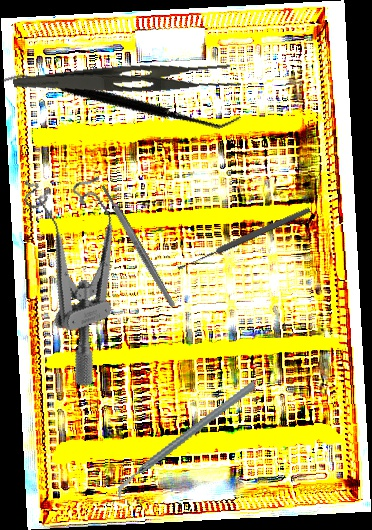Chopper: (98, 379, 275, 501)
Dressing Forceps: (12, 53, 242, 113)
Scalpel Handle: (99, 182, 177, 310)
Spatula Surgical: (0, 7, 242, 191)
Speculum: (3, 153, 166, 392)
Surgical Spoon: (176, 206, 312, 272)
